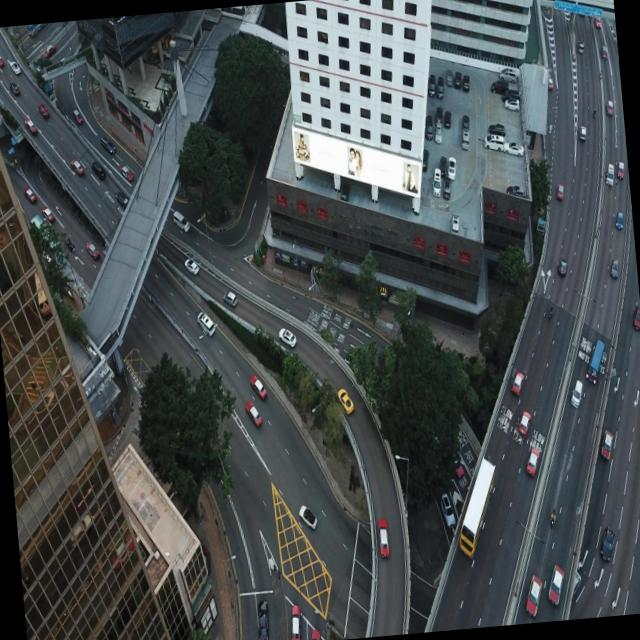bike: (547, 508, 557, 529), (547, 305, 555, 321), (592, 106, 596, 118)
bus: (452, 456, 502, 560), (582, 338, 609, 386)
car: (524, 574, 544, 617), (546, 564, 566, 606), (524, 443, 546, 478), (512, 411, 533, 444), (257, 597, 273, 640), (600, 524, 618, 562), (375, 517, 391, 559), (439, 491, 456, 529), (599, 428, 617, 461), (298, 503, 318, 532), (566, 568, 584, 600), (246, 398, 264, 428), (289, 604, 304, 640), (483, 132, 505, 156), (458, 114, 473, 149), (196, 312, 216, 338), (508, 370, 528, 396), (170, 208, 190, 234), (568, 381, 586, 409), (250, 374, 268, 402), (336, 388, 354, 416), (431, 165, 446, 197), (448, 450, 464, 479), (503, 138, 524, 158), (506, 183, 529, 200), (278, 326, 297, 346), (114, 189, 130, 212), (59, 230, 75, 253), (182, 256, 200, 276), (91, 158, 108, 179), (85, 238, 101, 260), (338, 181, 352, 206), (605, 162, 618, 188), (499, 66, 517, 84), (630, 299, 640, 331), (503, 96, 520, 114), (490, 79, 509, 95), (501, 88, 520, 104), (100, 134, 115, 154), (488, 122, 506, 138), (71, 158, 86, 177), (42, 42, 57, 60), (42, 204, 56, 223), (616, 161, 628, 183), (446, 156, 457, 180), (419, 148, 431, 170), (426, 74, 437, 98), (424, 114, 434, 140), (435, 74, 445, 100), (120, 164, 134, 182), (614, 210, 626, 230), (24, 116, 36, 136), (450, 212, 460, 235), (442, 177, 452, 200), (604, 99, 616, 118), (24, 187, 37, 204), (557, 259, 570, 276), (438, 155, 448, 177), (610, 257, 620, 278), (434, 105, 444, 126), (10, 60, 23, 76), (38, 103, 50, 120), (434, 127, 446, 144), (442, 110, 452, 130), (577, 124, 589, 140), (226, 290, 238, 306), (74, 108, 85, 125), (554, 182, 564, 200), (9, 82, 21, 96), (309, 628, 323, 640), (453, 72, 462, 90), (576, 38, 585, 56), (462, 75, 471, 92), (600, 43, 608, 61), (593, 12, 601, 30), (446, 69, 454, 86), (0, 52, 3, 69)
